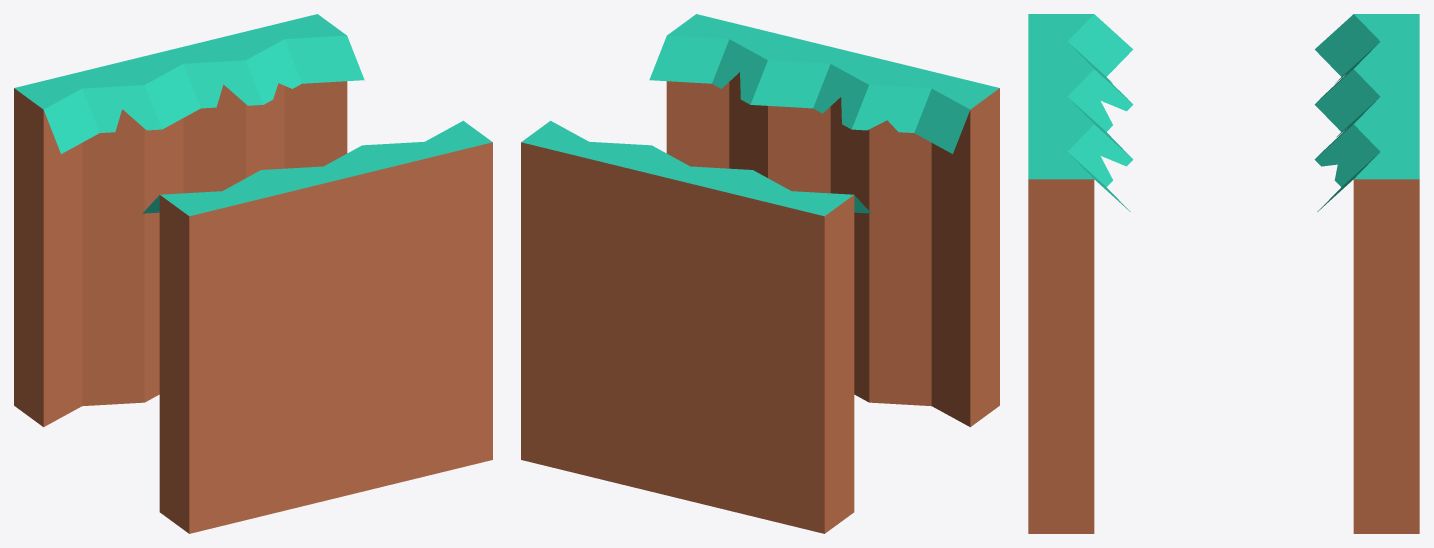
File: hill_sides.obj
The picture shows the model from 3 angles, left to right: view 1: azimuth 30°, elevation 25°; view 2: azimuth 150°, elevation 25°; view 3: azimuth 270°, elevation 25°; orthographic projection. The views are drawn at different scales.
Parts seen in each view (by area): view 1: cliff_top_rock.001, cliff_top_rock; view 2: cliff_top_rock, cliff_top_rock.001; view 3: cliff_top_rock, cliff_top_rock.001.
Boxes of the visible parts, x1=… form: cliff_top_rock.001: x1=142, y1=120, x2=492, y2=533; cliff_top_rock: x1=14, y1=14, x2=364, y2=427; cliff_top_rock: x1=521, y1=120, x2=871, y2=533; cliff_top_rock.001: x1=649, y1=14, x2=999, y2=427; cliff_top_rock: x1=1314, y1=14, x2=1419, y2=533; cliff_top_rock.001: x1=1028, y1=14, x2=1133, y2=533.
Size of the model in its own units: 1 by 1 by 1.
